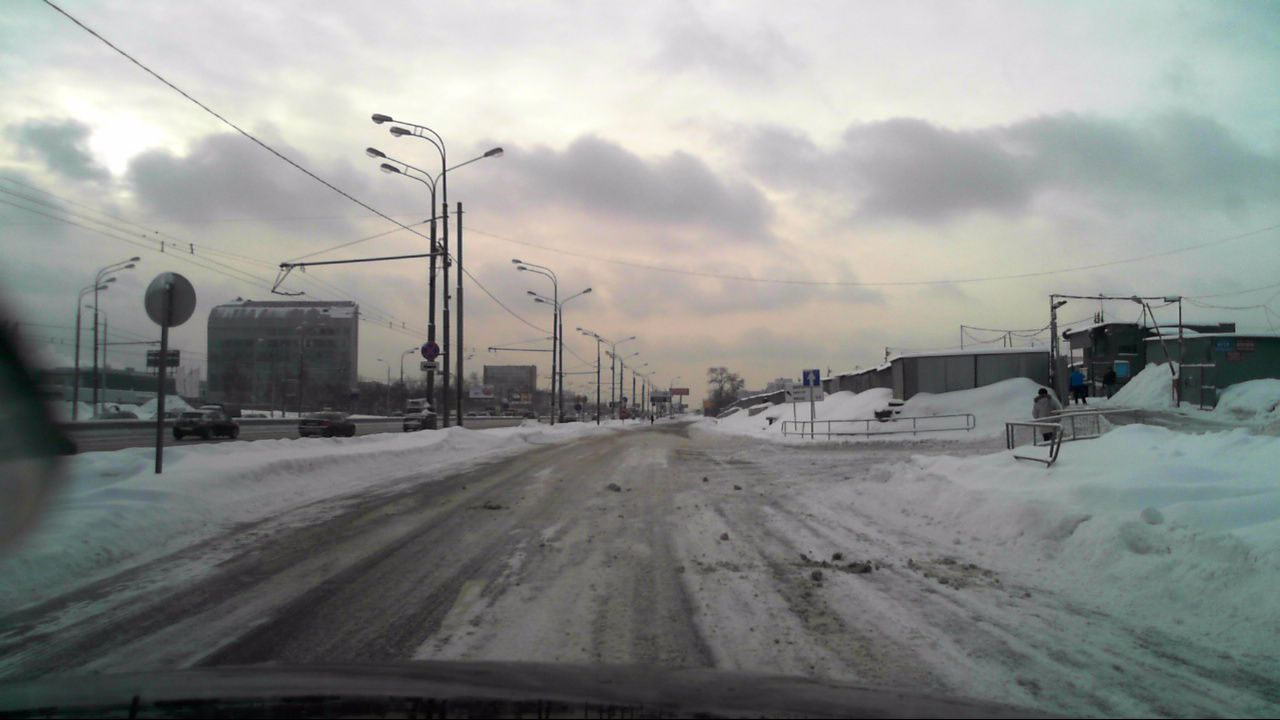No Parking: (419, 340, 440, 361)
